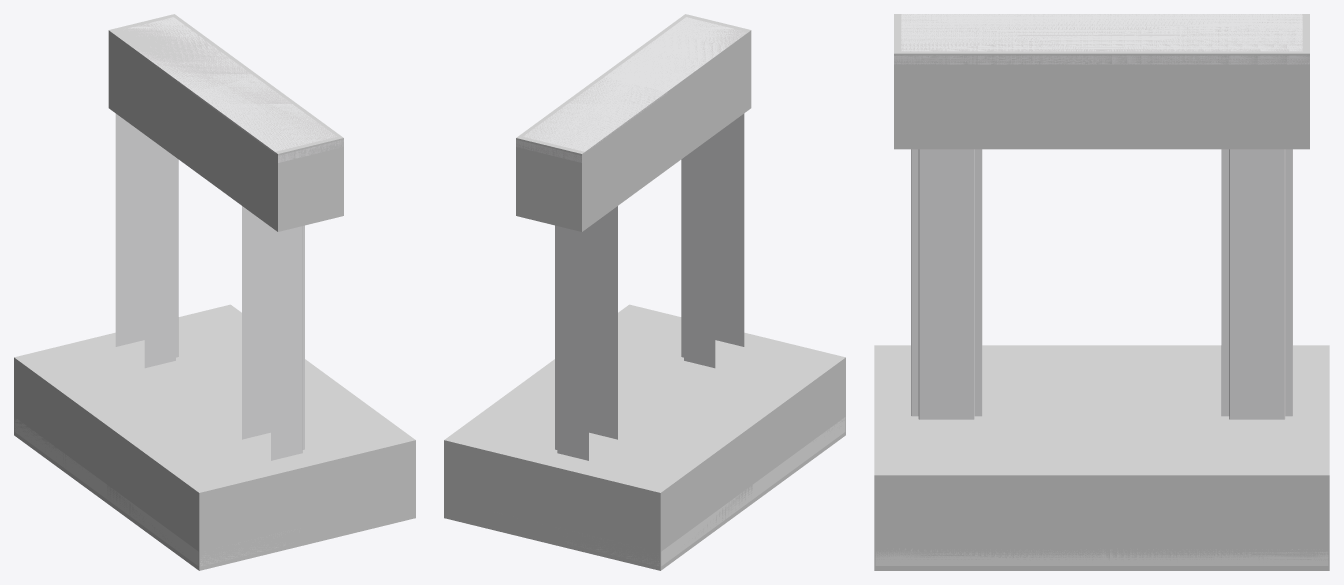
File: tv_unit.glb
The picture shows the model from 3 angles, left to right: view 1: azimuth 30°, elevation 25°; view 2: azimuth 150°, elevation 25°; view 3: azimuth 270°, elevation 25°; orthographic projection. The views are drawn at different scales.
Visible parts, largest first — view 1: WhitePaint_0009_COL, WhitePaint_0012, WhitePaint_0011, BlackMarble; view 2: WhitePaint_0009_COL, WhitePaint_0012, WhitePaint_0011, BlackMarble; view 3: WhitePaint_0009_COL, WhitePaint_0012, WhitePaint_0011, BlackMarble.
Boxes of the visible parts, left/top/right/bottom form: WhitePaint_0009_COL: left=14, top=14, right=415, bottom=570; WhitePaint_0012: left=115, top=113, right=304, bottom=460; WhitePaint_0011: left=128, top=17, right=343, bottom=162; BlackMarble: left=14, top=419, right=291, bottom=565; WhitePaint_0009_COL: left=444, top=14, right=845, bottom=570; WhitePaint_0012: left=555, top=113, right=744, bottom=460; WhitePaint_0011: left=516, top=17, right=744, bottom=162; BlackMarble: left=565, top=417, right=845, bottom=565; WhitePaint_0009_COL: left=874, top=14, right=1329, bottom=570; WhitePaint_0012: left=911, top=149, right=1292, bottom=419; WhitePaint_0011: left=894, top=14, right=1309, bottom=64; BlackMarble: left=875, top=548, right=1328, bottom=565.
Size of what is drawn, in the model's own units: 0.7407 by 1.27 by 1.1.
Materials: 2 (2 with a texture image).
